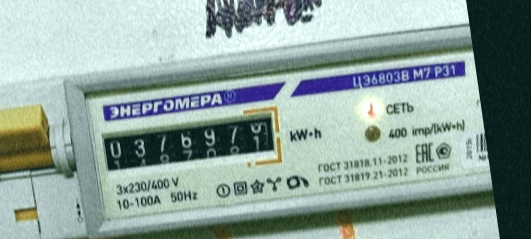0: (107, 139, 123, 161)
1: (250, 134, 263, 154)
3: (131, 138, 147, 160)
6: (177, 128, 193, 151)
7: (225, 124, 240, 147), (154, 133, 169, 155)
9: (201, 127, 216, 150)
screen: (92, 101, 289, 190)
